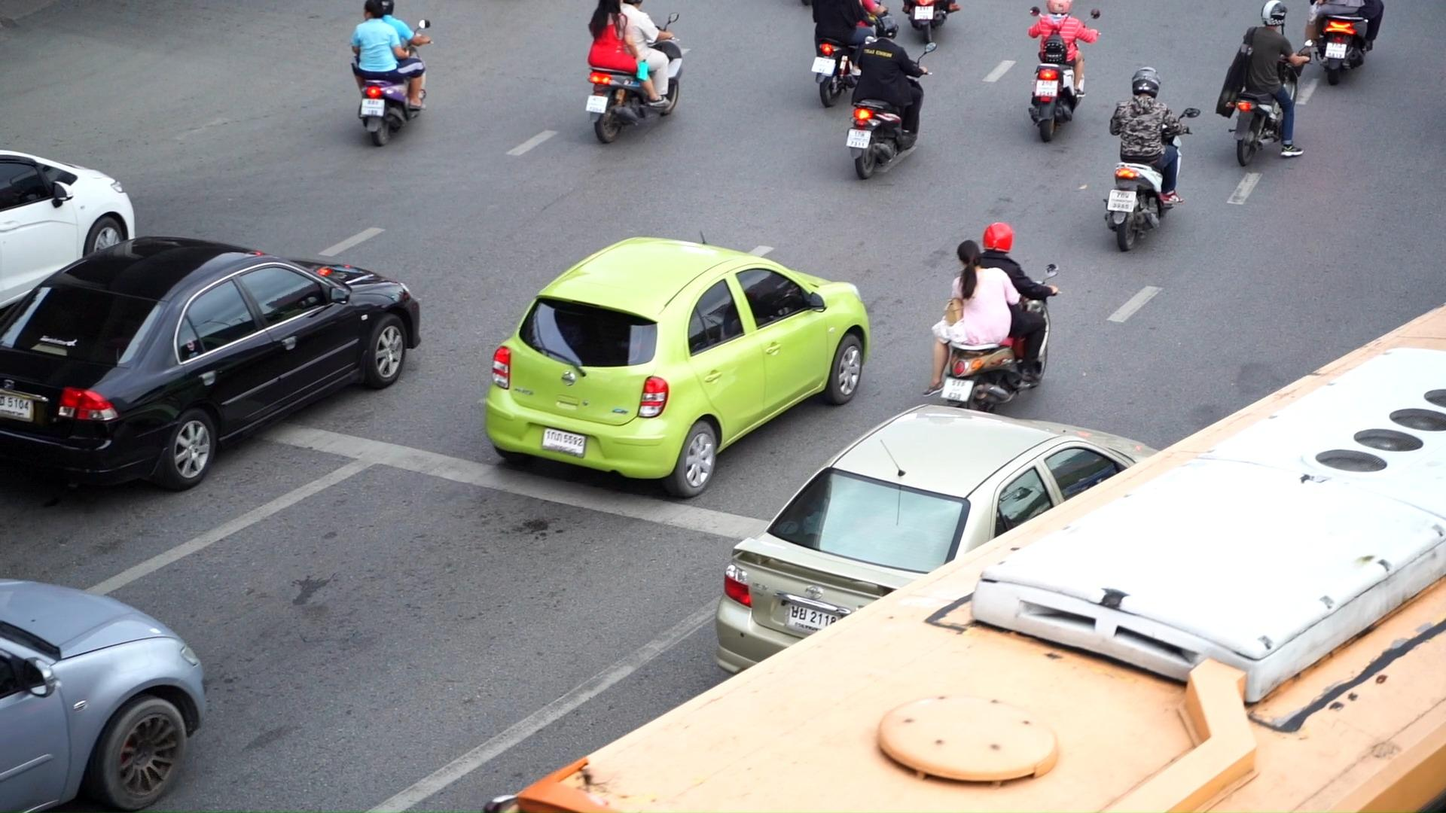driver: (923, 221, 1063, 414), (1102, 66, 1200, 252), (1216, 0, 1313, 167), (844, 15, 937, 180), (585, 0, 682, 144), (350, 0, 434, 147), (1027, 0, 1102, 142), (811, 0, 893, 108)
helmet: (1132, 66, 1161, 99), (983, 221, 1012, 253), (1261, 0, 1288, 27), (875, 15, 900, 40), (1046, 0, 1073, 13)
no-helmet: (957, 240, 980, 268), (363, 0, 383, 20)
